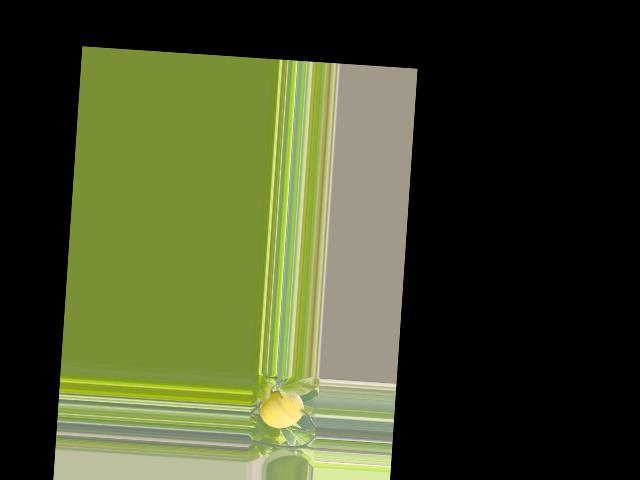lemon: (259, 384, 308, 433)
